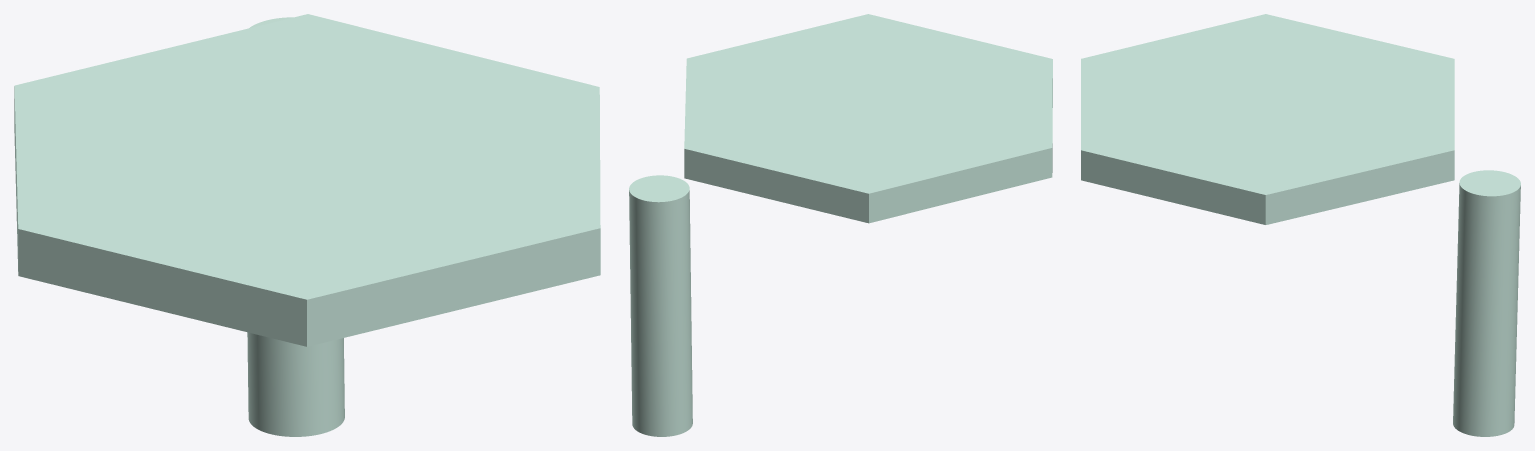
3 views of the same model, side by side, from view 1: azimuth 30°, elevation 25°; view 2: azimuth 150°, elevation 25°; view 3: azimuth 270°, elevation 25° (orthographic). The views are drawn at different scales.
Parts seen in each view (by area): view 1: Renderer Node; view 2: Renderer Node; view 3: Renderer Node.
Boxes of the visible parts, <box> form: Renderer Node: <box>14,14,600,436</box>; Renderer Node: <box>629,14,1052,436</box>; Renderer Node: <box>1081,14,1520,436</box>.
Size of the model in its own units: 1.21 by 0.8435 by 1.24.
